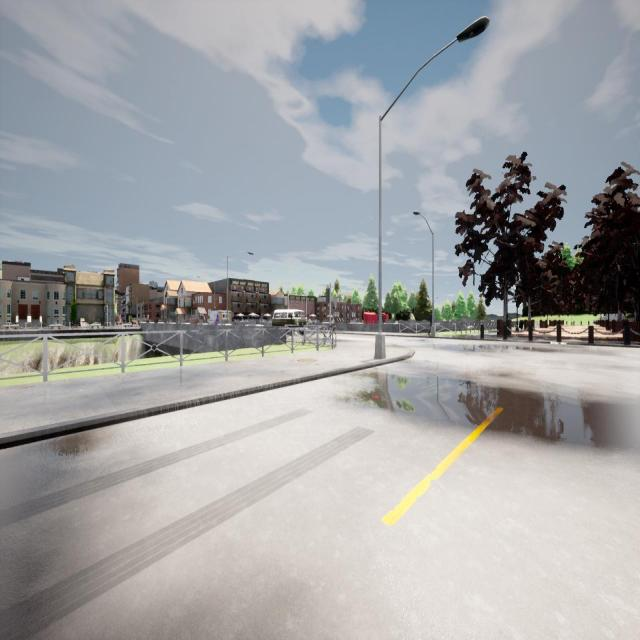Vehicle: (272, 309, 308, 327), (207, 310, 232, 324)
traffic_light: (326, 288, 330, 303), (104, 306, 108, 314)
